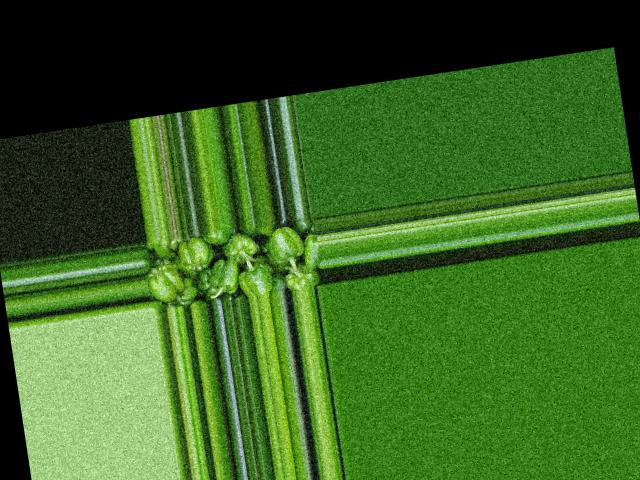bell_pepper: (140, 216, 322, 309)
